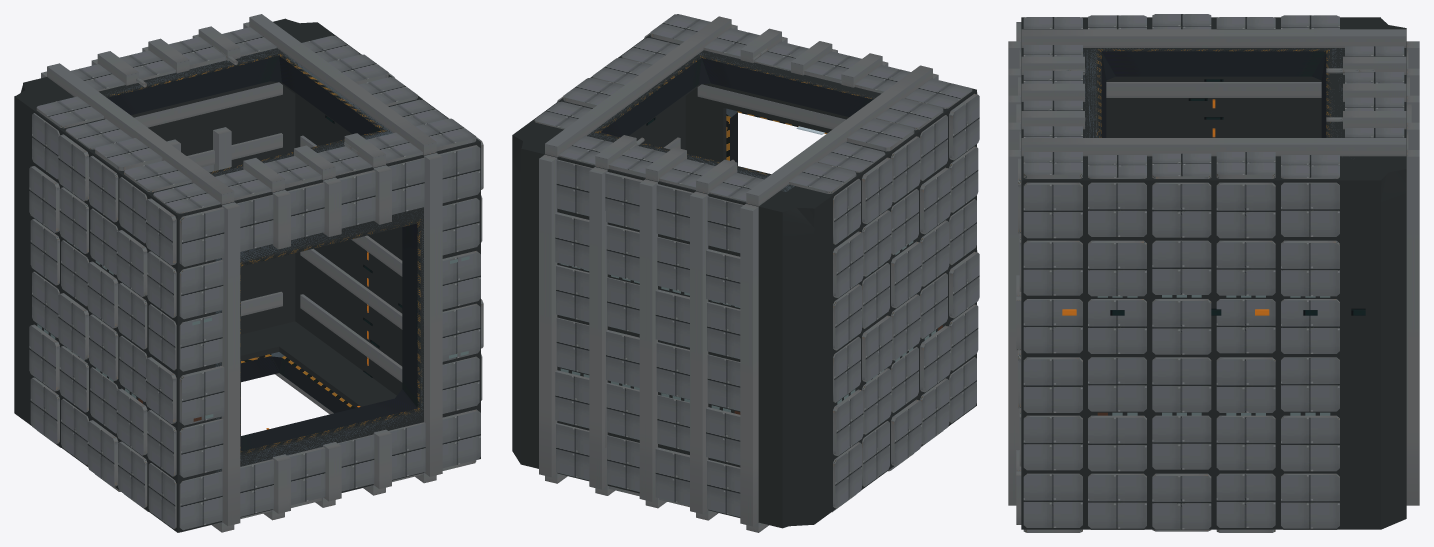
File: kit_tower.glb
3 renders of one model, left to right at view 1: azimuth 30°, elevation 25°; view 2: azimuth 150°, elevation 25°; view 3: azimuth 270°, elevation 25°, orthographic. The views are drawn at different scales.
Visible parts, largest first — view 1: lod0; view 2: lod0; view 3: lod0.
Boxes of the visible parts, x1=… form: lod0: x1=14, y1=14, x2=483, y2=532; lod0: x1=512, y1=14, x2=979, y2=532; lod0: x1=1008, y1=14, x2=1419, y2=532.
Size of what is drawn, in the model's own units: 123 by 128 by 128.
Materials: 1 (1 with a texture image).
